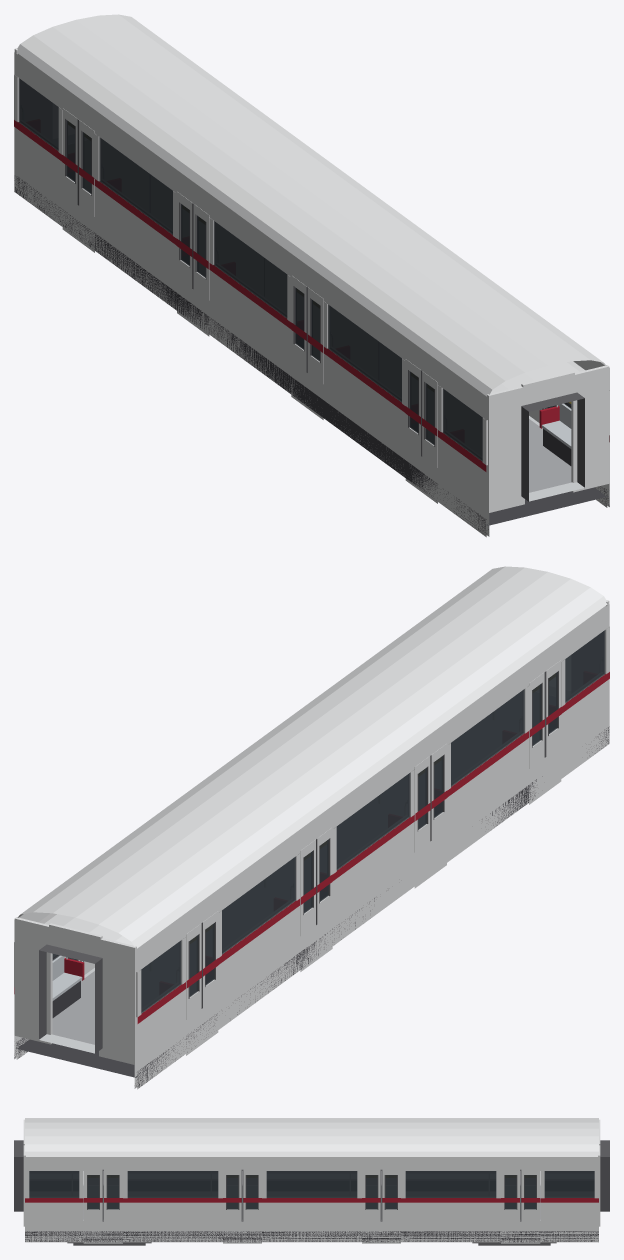
Rendered from wl80-r3-game-metro-assets-car_mid_line1.glb.
3 views of the same model, one above another, from view 1: azimuth 30°, elevation 25°; view 2: azimuth 150°, elevation 25°; view 3: azimuth 270°, elevation 25° (orthographic). The views are drawn at different scales.
Visible parts, largest first — view 1: car_body, car_gangway, door_L_b, door_L_a; view 2: car_body, car_gangway, door_L_a, door_L_b; view 3: car_body, door_R_a, door_R_b, car_gangway, car_bogie.
Part boxes in pixels (<box>): car_body: <box>14,14,609,537</box>; car_gangway: <box>14,20,609,512</box>; door_L_b: <box>78,119,437,467</box>; door_L_a: <box>62,108,421,456</box>; car_body: <box>14,566,609,1089</box>; car_gangway: <box>14,572,609,1064</box>; door_L_a: <box>186,671,545,1019</box>; door_L_b: <box>202,660,561,1008</box>; car_body: <box>25,1118,598,1243</box>; door_R_a: <box>103,1169,539,1221</box>; door_R_b: <box>84,1169,520,1221</box>; car_gangway: <box>14,1119,609,1226</box>; car_bogie: <box>67,1242,556,1245</box>.
Bounding box in the file's own units: 2.88 × 3.83 × 19.72.
